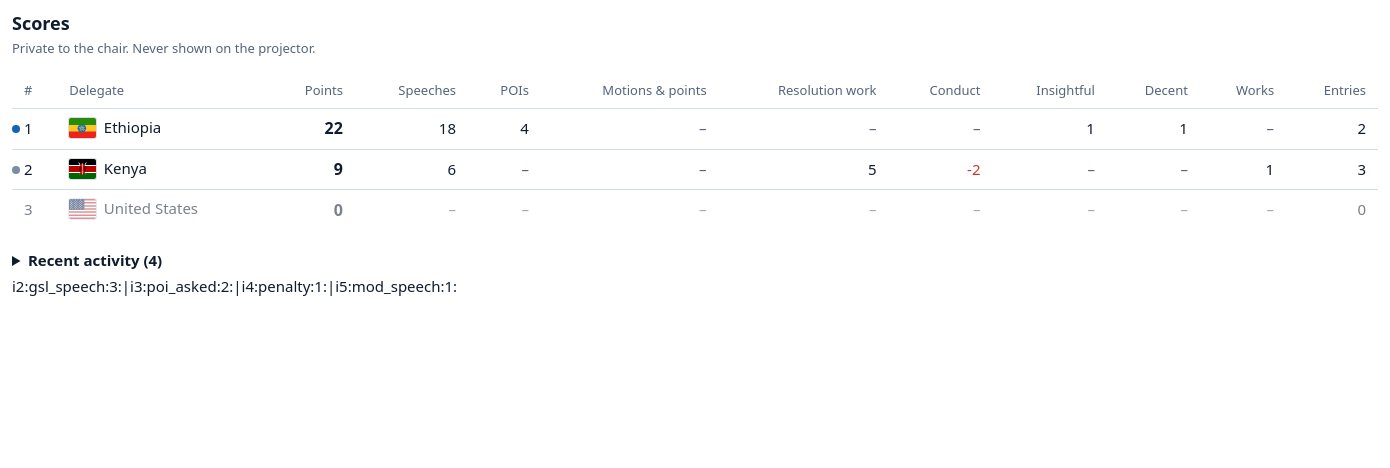
Scenario: LeaderboardPanel › lists recent activity newest first and deletes
Click the heading "Recent activity (4)".
click(95, 260)  # box 28,250 -> 162,270
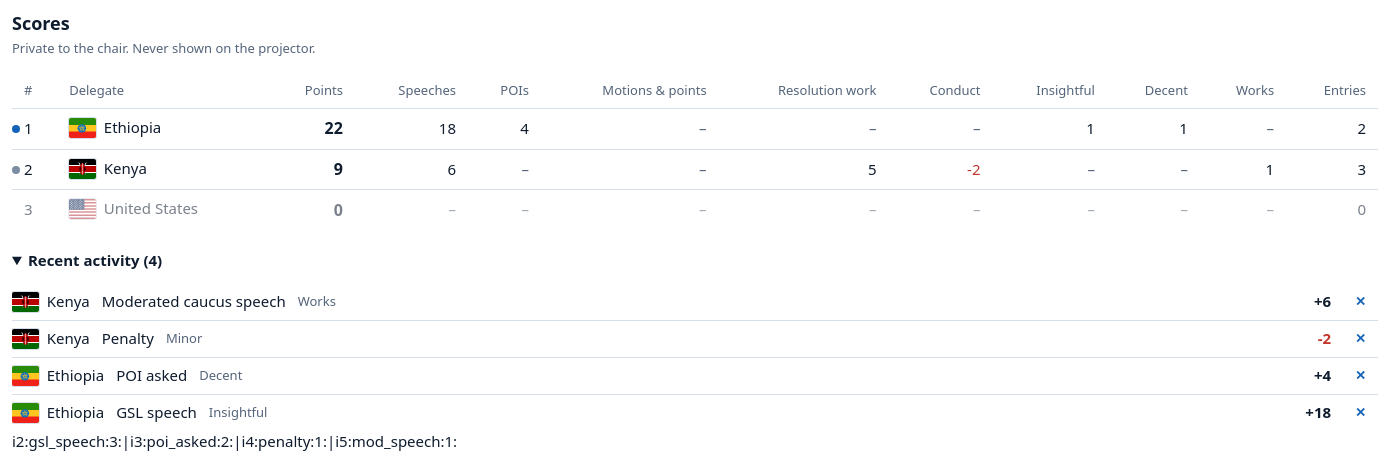
Check: the number of list items is 4, box 12,284 -> 1378,320; 12,320 -> 1378,357; 12,357 -> 1378,394; 12,394 -> 1378,431
Check: the list item "Kenya Moderated caucus speech Works +6 ✕" is shown, box 12,284 -> 1378,320
Check: the list item "Ethiopia GSL speech Insightful +18 ✕" is shown, box 12,394 -> 1378,431
Click the button named "Delete GSL speech for Ethiopia".
click(1361, 413)  # box 1343,399 -> 1378,427
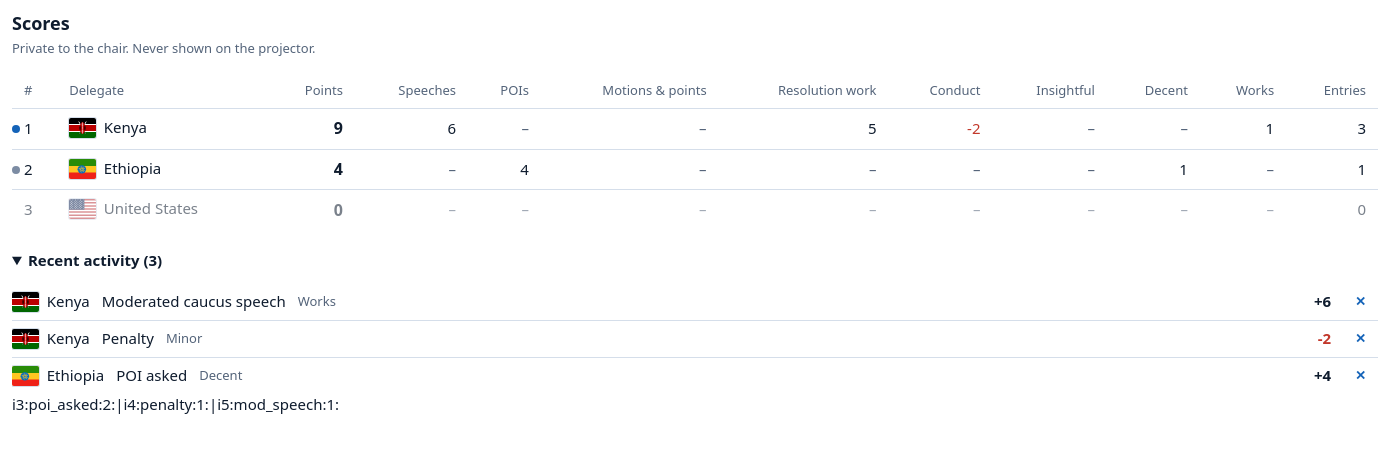
Check: the cell "Kenya" is shown, box 57,109 -> 269,149
Check: the text with test id "probe" no longer shows "gsl_speech"
